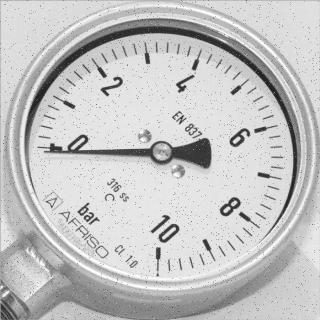gauge: (0, 0, 320, 320), (27, 130, 87, 166), (146, 234, 172, 274), (150, 139, 174, 165), (41, 147, 55, 159)
